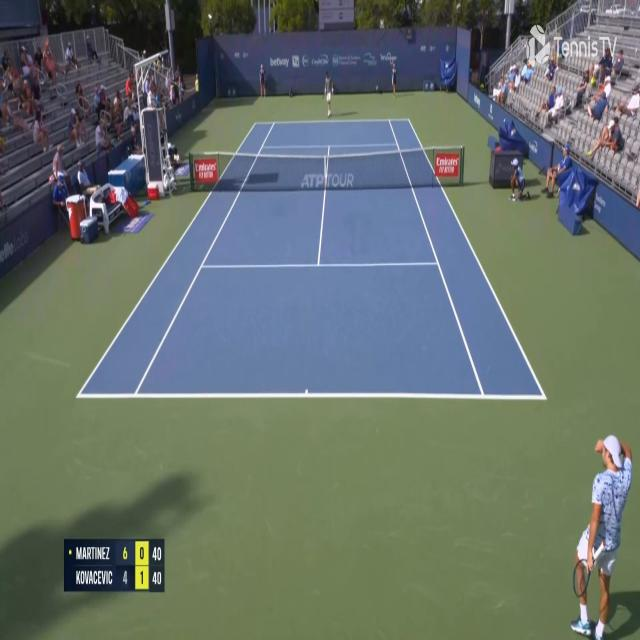tennis-player: (568, 432, 638, 639), (323, 70, 336, 119)
